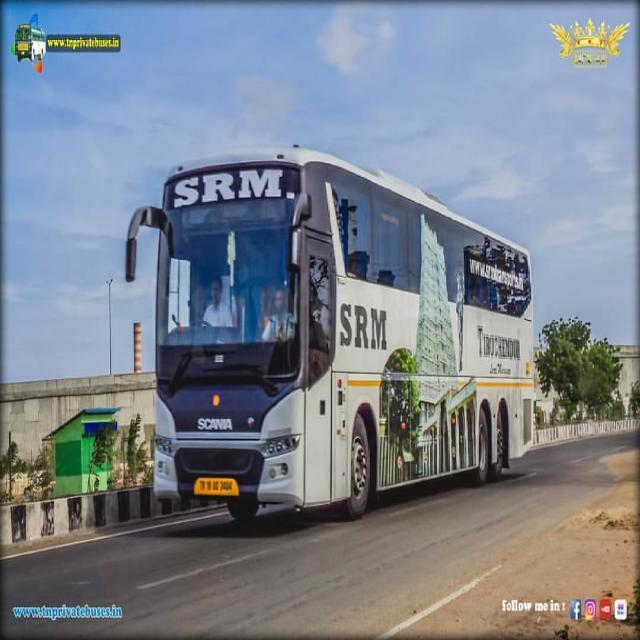Bus: (121, 142, 539, 526)
